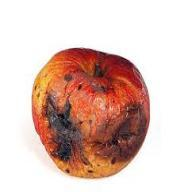apple: (29, 48, 153, 176)
